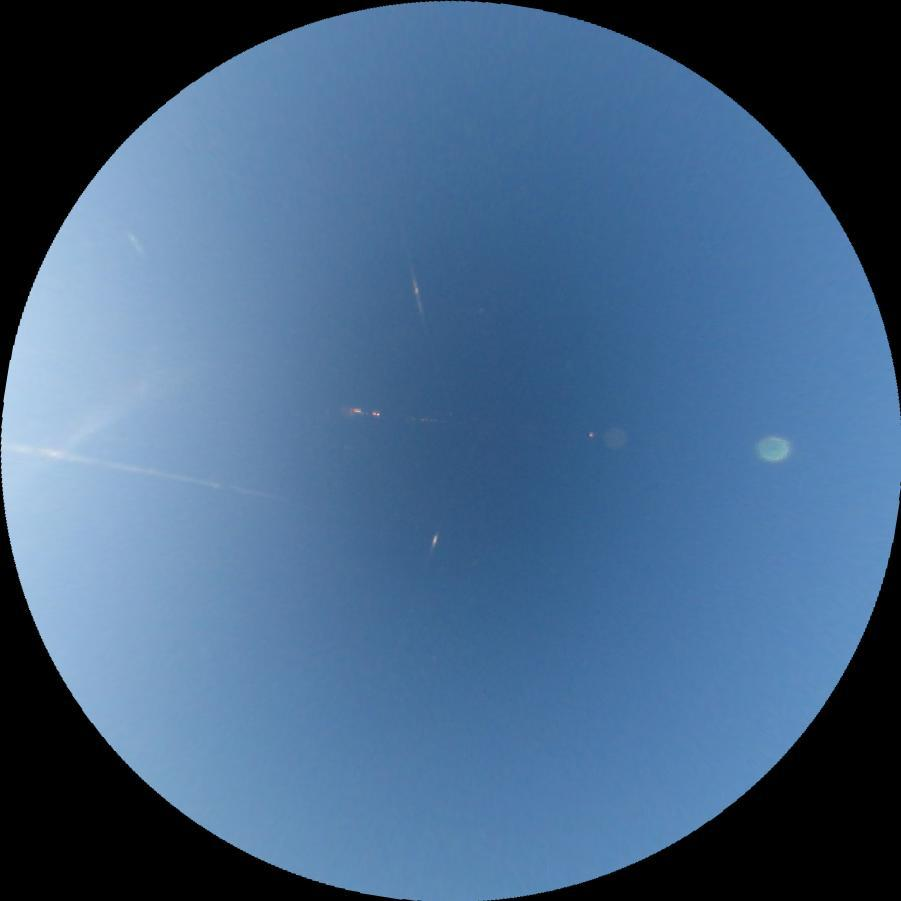parasite: (1, 439, 292, 506), (396, 240, 455, 416), (419, 517, 444, 575), (123, 231, 147, 253)
